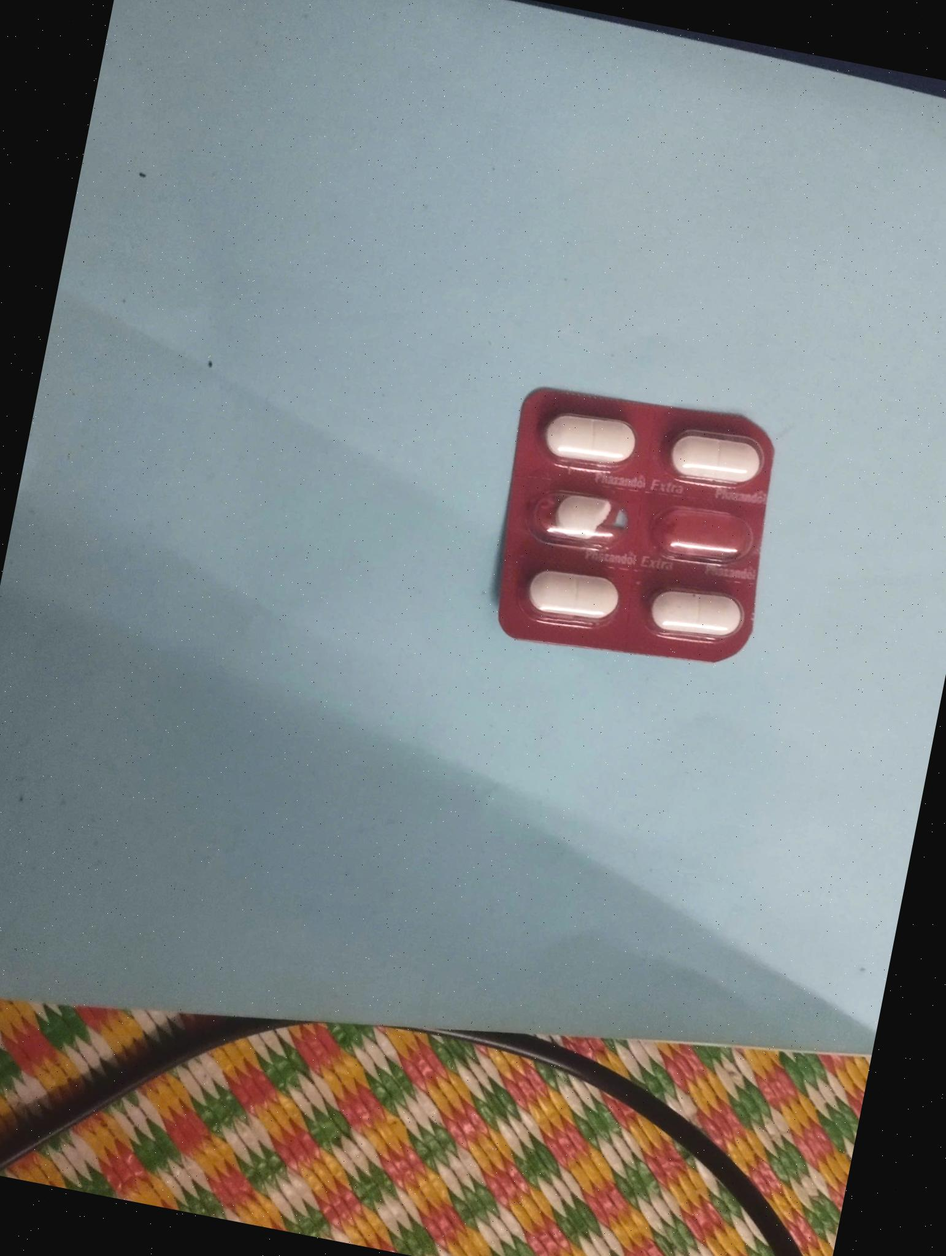Empty: (638, 494, 755, 573)
Full: (641, 570, 746, 656), (656, 418, 767, 496), (527, 405, 642, 474), (522, 558, 620, 629)
Partial: (525, 473, 641, 549)
